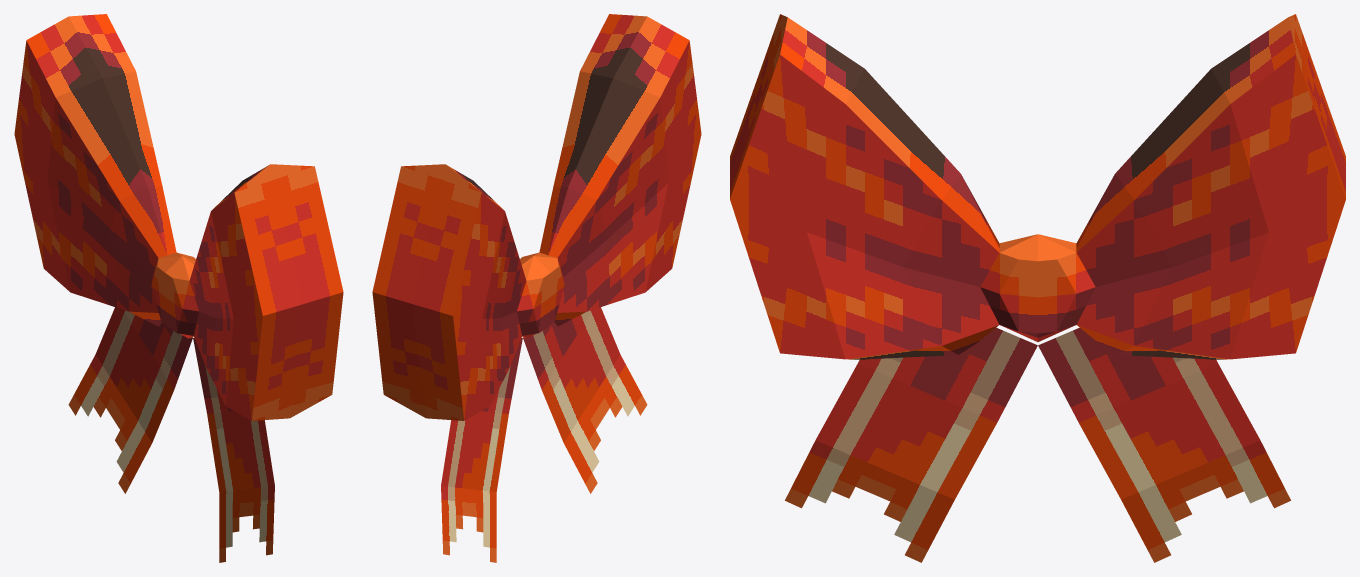
The model's file is ribbon.fbx.
3 renders of one model, left to right at view 1: azimuth 30°, elevation 25°; view 2: azimuth 150°, elevation 25°; view 3: azimuth 270°, elevation 25°, orthographic. The views are drawn at different scales.
Visible parts, largest first — view 1: Ribbon; view 2: Ribbon; view 3: Ribbon.
Boxes of the visible parts, box(x1,y1,x2,y2) form: Ribbon: box(14, 14, 343, 562); Ribbon: box(372, 14, 701, 562); Ribbon: box(730, 14, 1345, 562).
Size of the model in its own units: 22.82 by 97.47 by 100.
1 material, 1 textured.
